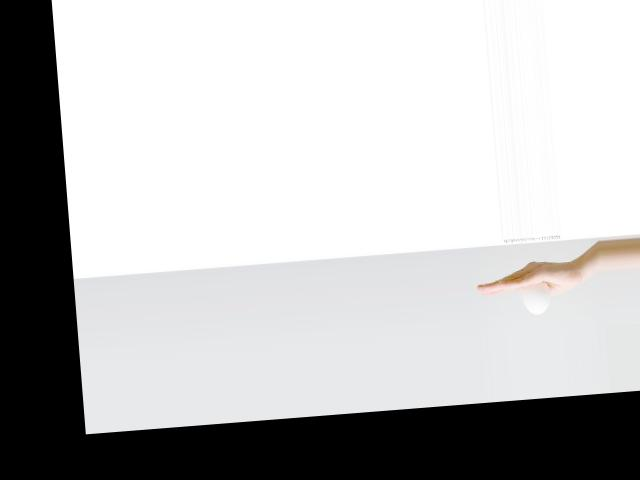egg: (521, 280, 550, 315)
